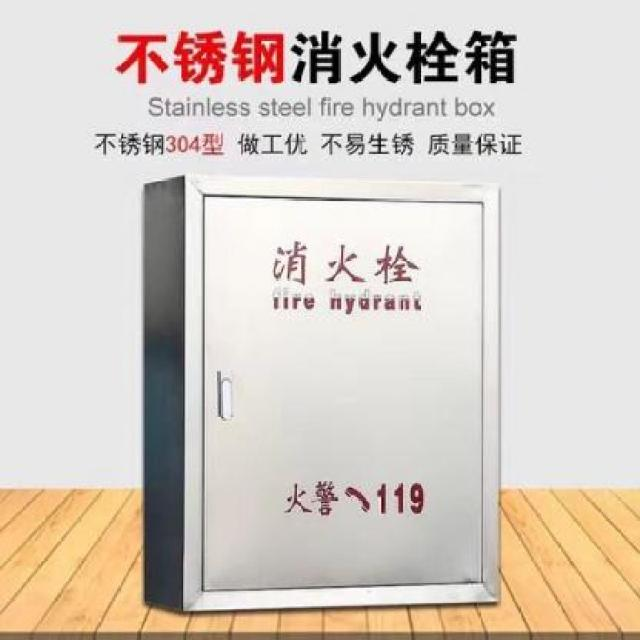firehydrant: (137, 169, 507, 616)
